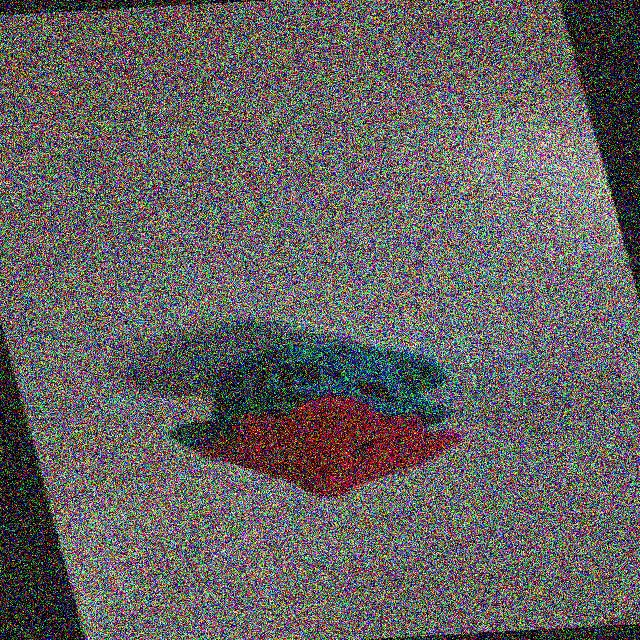House: (99, 289, 502, 527)
